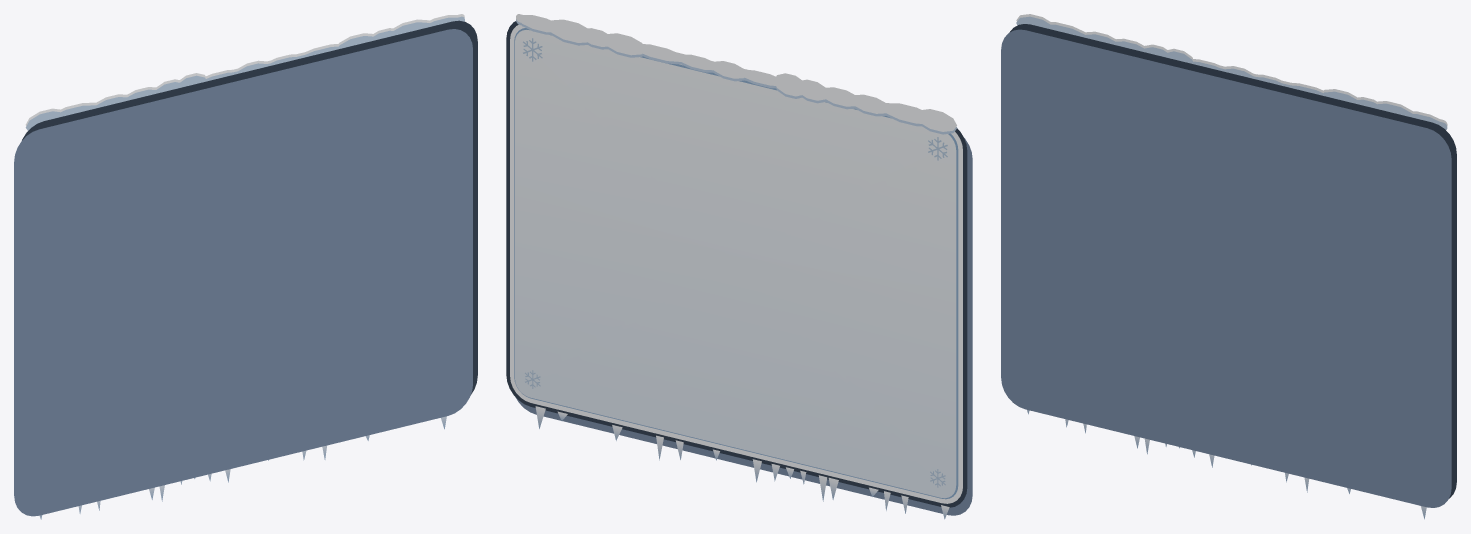
The model's file is ui_panel.glb.
The picture shows the model from 3 angles, left to right: view 1: azimuth 30°, elevation 25°; view 2: azimuth 150°, elevation 25°; view 3: azimuth 330°, elevation 25°; orthographic projection. The views are drawn at different scales.
Visible parts, largest first — view 1: ui_panel; view 2: ui_panel; view 3: ui_panel.
Boxes of the visible parts, x1,y1,x2,y2 form: ui_panel: (14,14,477,519); ui_panel: (506,14,972,519); ui_panel: (1001,14,1456,519).
Bounding box in the file's own units: 0.93 × 0.8031 × 0.007.
